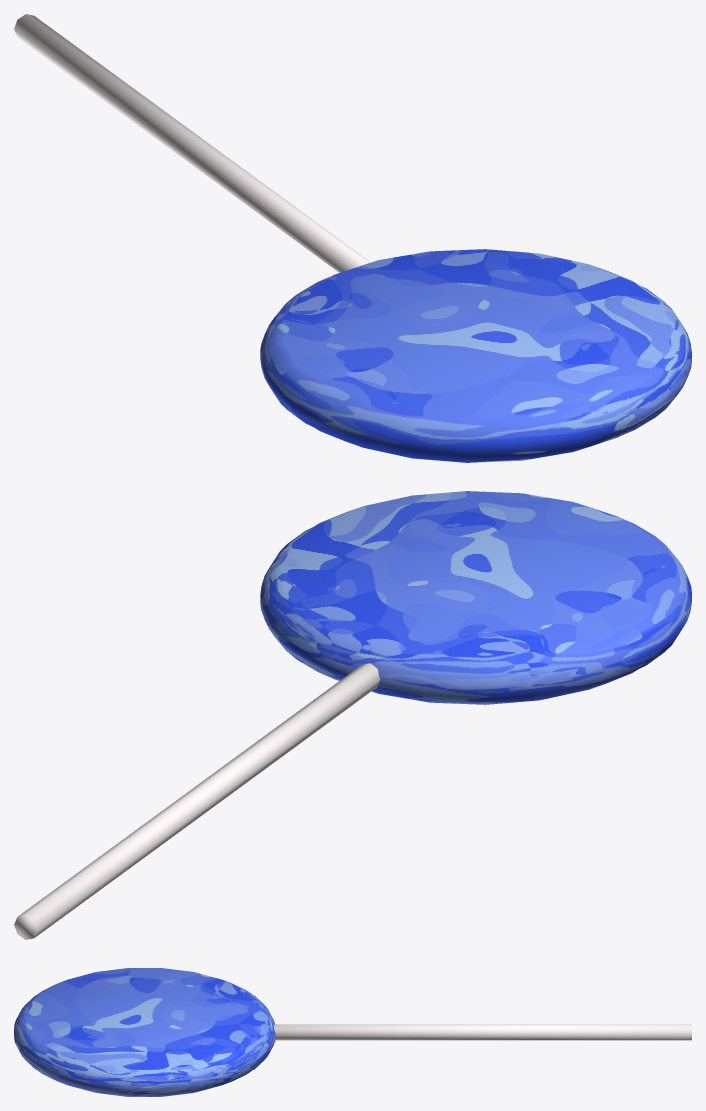
The model's file is Blue.glb.
The picture shows the model from 3 angles, top to bottom: view 1: azimuth 30°, elevation 25°; view 2: azimuth 150°, elevation 25°; view 3: azimuth 270°, elevation 25°; orthographic projection. The views are drawn at different scales.
Visible parts, largest first — view 1: sucker, stem; view 2: sucker, stem; view 3: sucker, stem.
Part boxes in pixels (x1,y1,x2,y2): sucker: (260,249,691,462); stem: (14,14,370,272); sucker: (260,491,691,704); stem: (14,663,380,939); sucker: (14,968,275,1096); stem: (273,1024,691,1040).
Bounding box in the file's own units: 1.84 × 0.2329 × 4.77.
2 materials, 1 textured.
